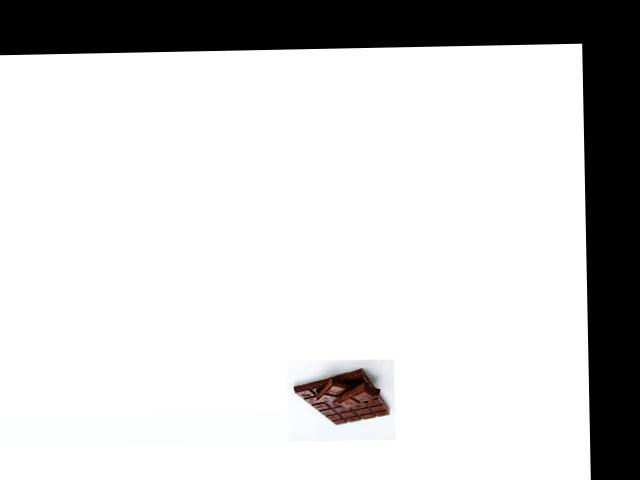chocolate: (292, 364, 390, 430)
